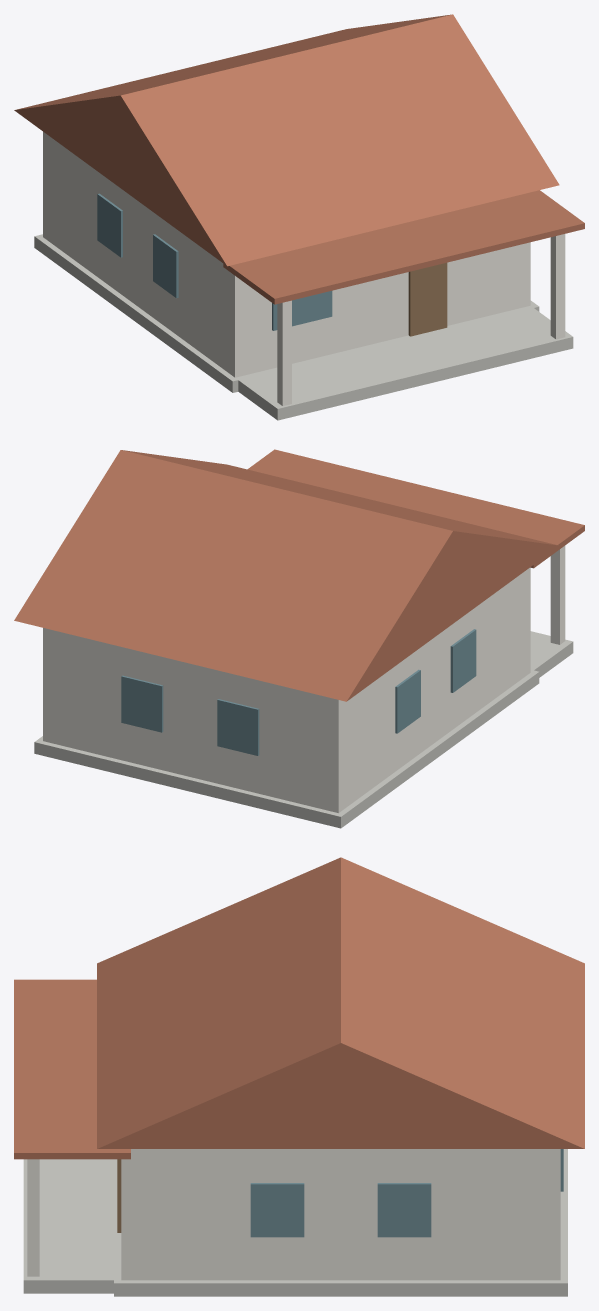
The model's file is house.glb.
The picture shows the model from 3 angles, top to bottom: view 1: azimuth 30°, elevation 25°; view 2: azimuth 150°, elevation 25°; view 3: azimuth 270°, elevation 25°; orthographic projection. The views are drawn at different scales.
Visible parts, largest first — view 1: roof, walls; view 2: roof, walls; view 3: roof, walls.
Part boxes in pixels (<box>): roof: <box>14,14,559,266</box>; walls: <box>34,131,584,420</box>; roof: <box>14,450,559,701</box>; walls: <box>34,449,584,828</box>; roof: <box>97,857,584,1148</box>; walls: <box>14,979,567,1296</box>.
Size of the model in its own units: 9 by 5.9 by 11.7.
